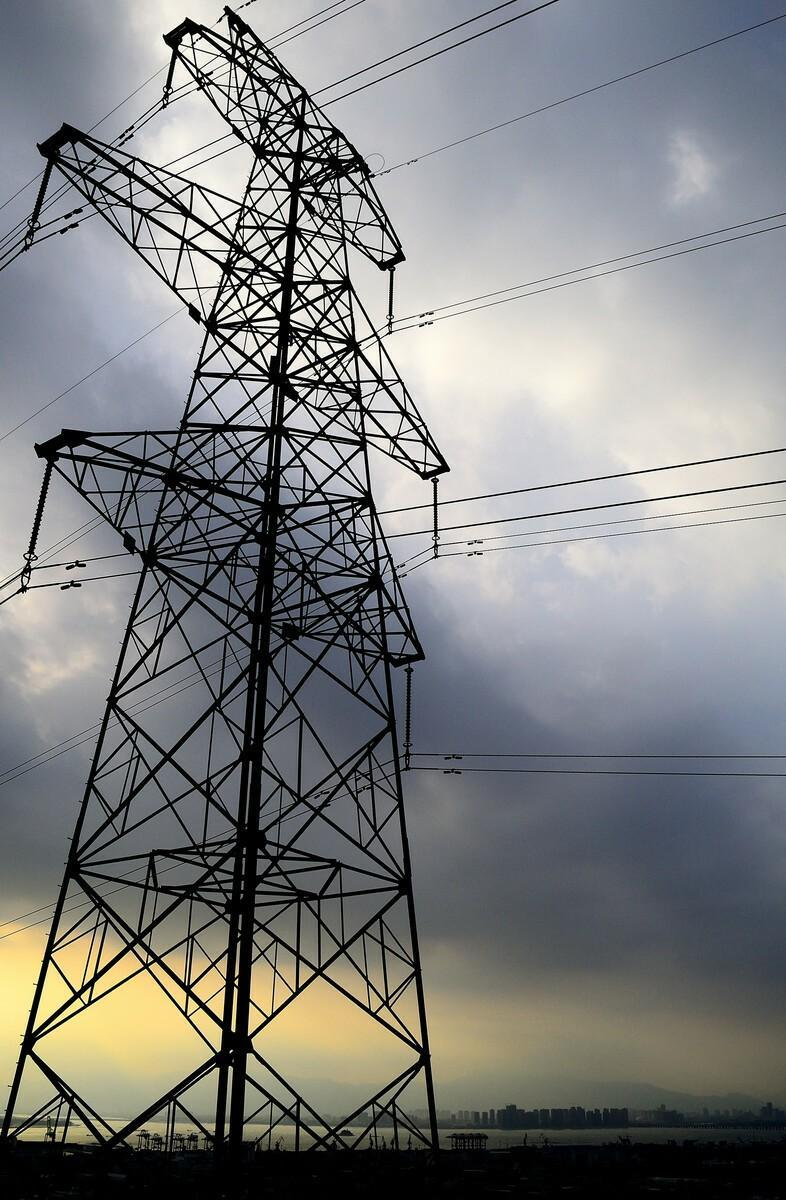power_tower: (0, 7, 448, 1160)
